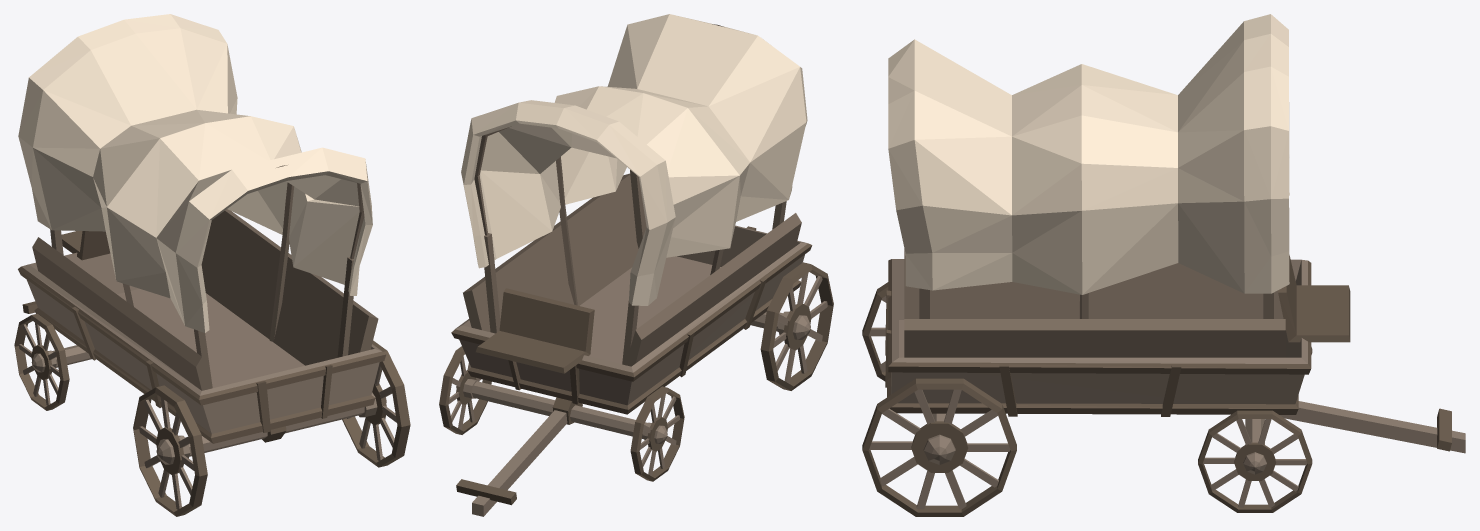
The model's file is cart_3.glb.
3 views of the same model, side by side, from view 1: azimuth 30°, elevation 25°; view 2: azimuth 150°, elevation 25°; view 3: azimuth 270°, elevation 25° (orthographic). The views are drawn at different scales.
Visible parts, largest first — view 1: cart_3; view 2: cart_3; view 3: cart_3.
Part boxes in pixels (<box>): cart_3: <box>14,14,410,516</box>; cart_3: <box>439,14,833,516</box>; cart_3: <box>862,14,1465,516</box>.
Bounding box in the file's own units: 0.8145 × 1.23 × 1.6.
Materials: 1 (1 with a texture image).
